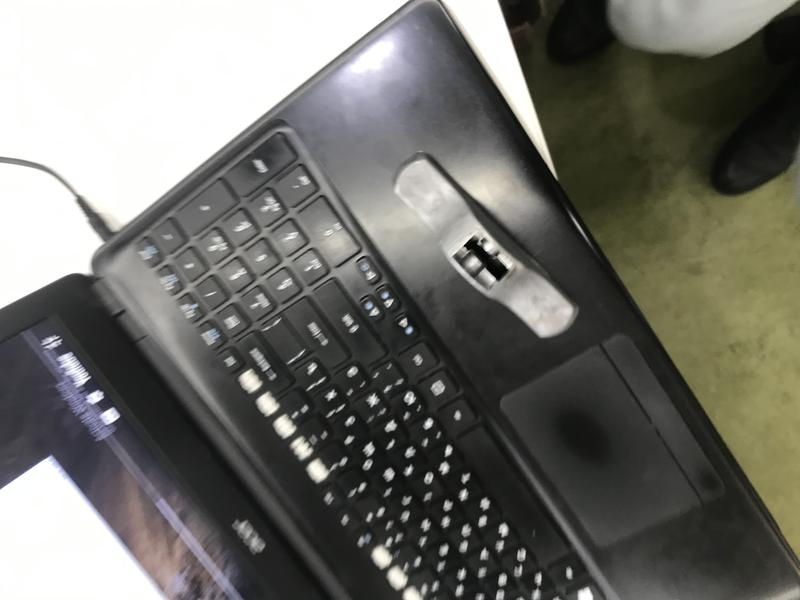zapchast: (378, 138, 589, 353)
